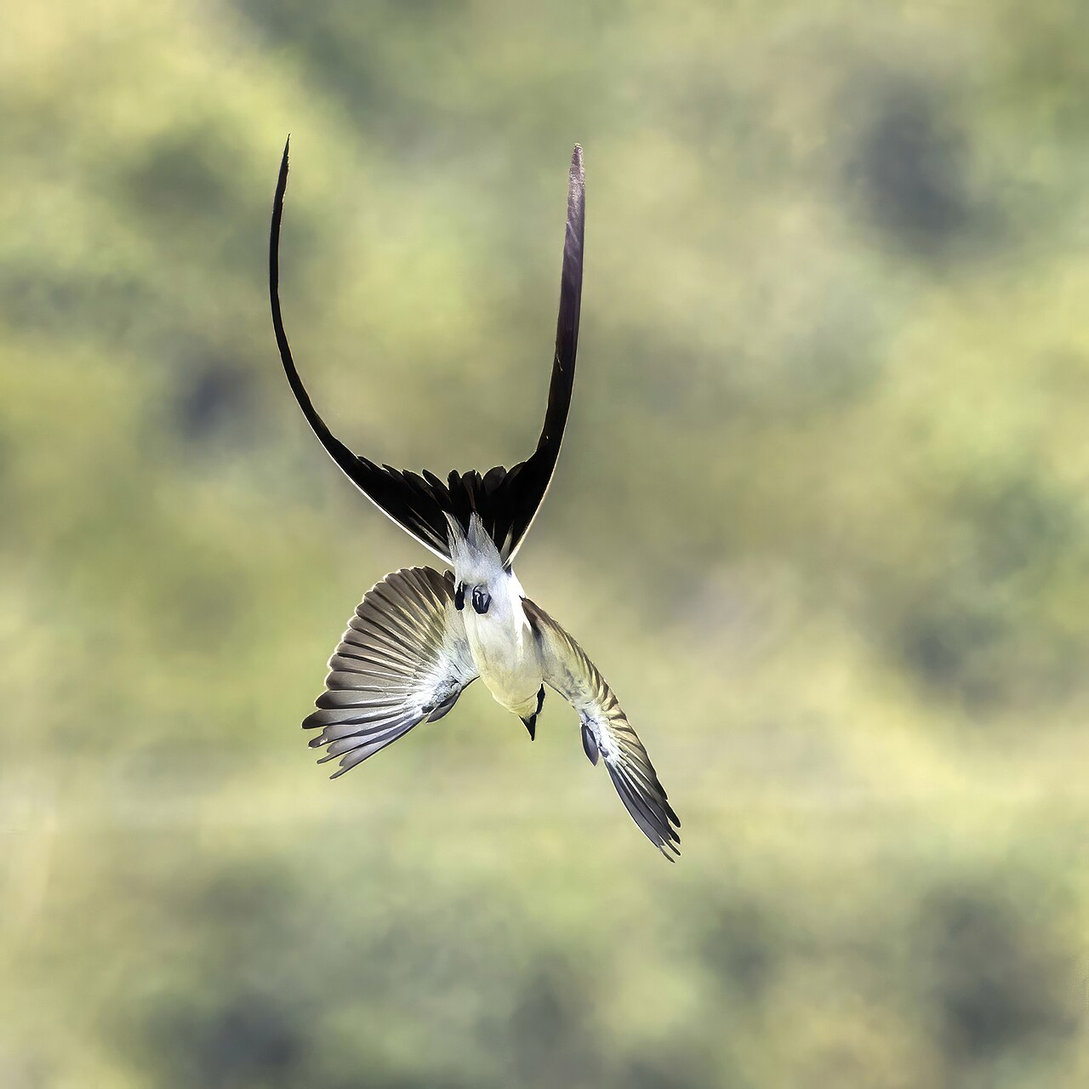bird: (266, 129, 684, 866)
